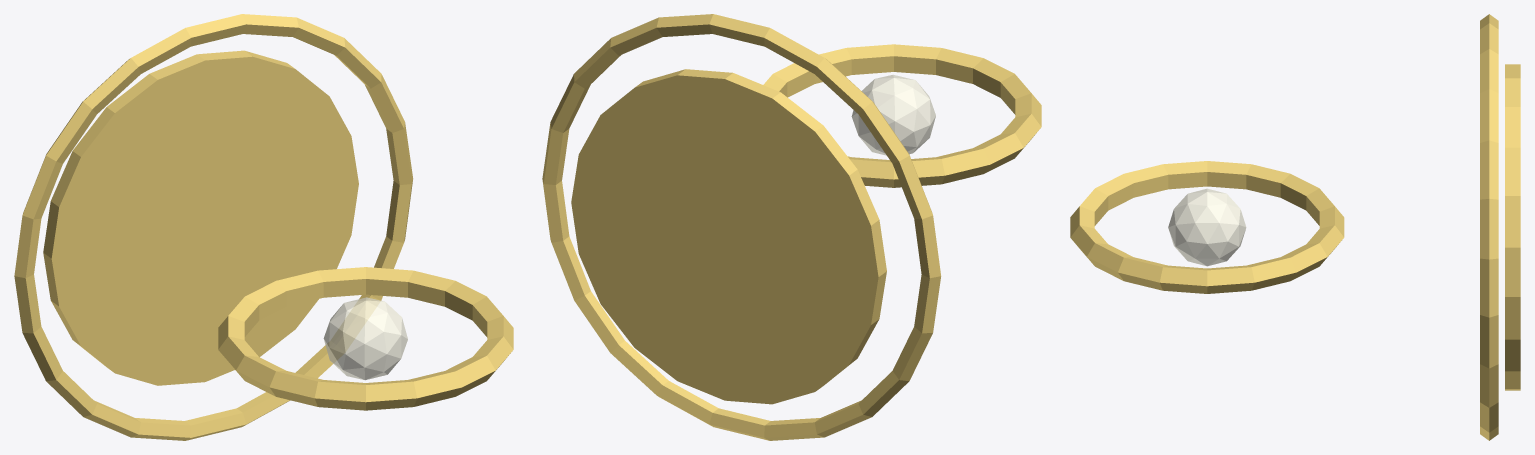
Rendered from interact_prompt_marker.glb.
The picture shows the model from 3 angles, left to right: view 1: azimuth 30°, elevation 25°; view 2: azimuth 150°, elevation 25°; view 3: azimuth 270°, elevation 25°; orthographic projection. The views are drawn at different scales.
Visible parts, largest first — view 1: marker_disc, marker_ring, icon_ring, icon_core; view 2: marker_disc, marker_ring, icon_ring, icon_core; view 3: icon_ring, marker_ring, marker_disc, icon_core.
Part boxes in pixels (x1=…): marker_disc: x1=43, y1=50, x2=358, y2=385; marker_ring: x1=14, y1=14, x2=413, y2=440; icon_ring: x1=218, y1=267, x2=513, y2=410; icon_core: x1=323, y1=297, x2=407, y2=380; marker_disc: x1=571, y1=69, x2=886, y2=404; marker_ring: x1=542, y1=14, x2=941, y2=440; icon_ring: x1=763, y1=44, x2=1041, y2=187; icon_core: x1=851, y1=74, x2=935, y2=155; icon_ring: x1=1070, y1=161, x2=1344, y2=293; marker_ring: x1=1480, y1=14, x2=1498, y2=440; marker_disc: x1=1505, y1=64, x2=1520, y2=390; icon_core: x1=1168, y1=188, x2=1246, y2=266.
Bounding box in the file's own units: 1.09 × 1.08 × 1.15.
